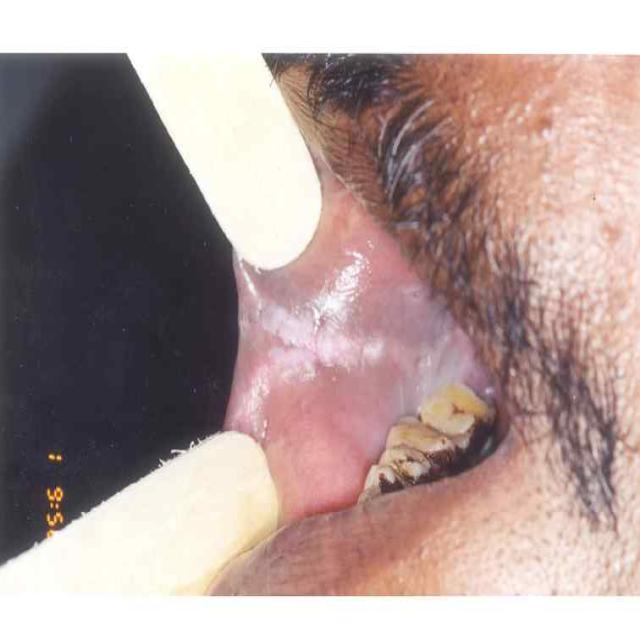leukoplakia-detection: (236, 276, 393, 426)
processing_area: (231, 167, 498, 530)
